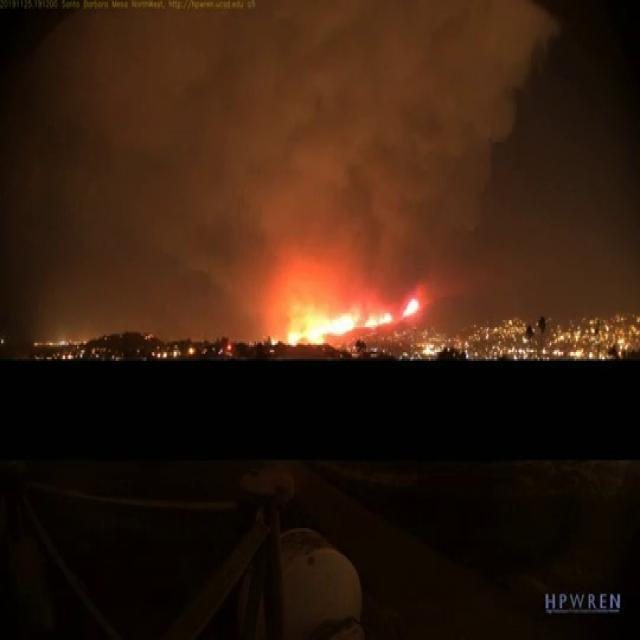Fire: (274, 292, 358, 348)
Smoke: (206, 14, 422, 173)
